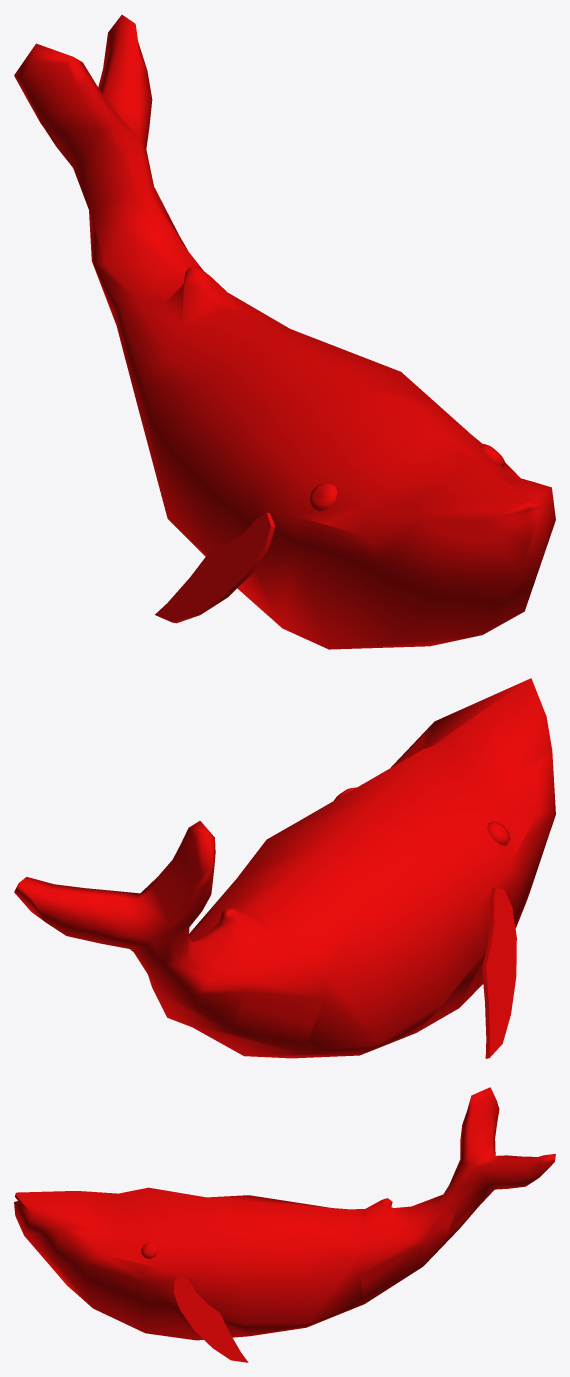
The picture shows the model from 3 angles, top to bottom: view 1: azimuth 30°, elevation 25°; view 2: azimuth 150°, elevation 25°; view 3: azimuth 270°, elevation 25°; orthographic projection. The views are drawn at different scales.
Visible parts, largest first — view 1: Fish_BlueWhale; view 2: Fish_BlueWhale; view 3: Fish_BlueWhale.
Boxes of the visible parts, <box> form: Fish_BlueWhale: <box>14,15,555,649</box>; Fish_BlueWhale: <box>14,678,555,1058</box>; Fish_BlueWhale: <box>14,1087,555,1362</box>.
Size of the model in its own units: 1.25 by 1.48 by 3.22.
